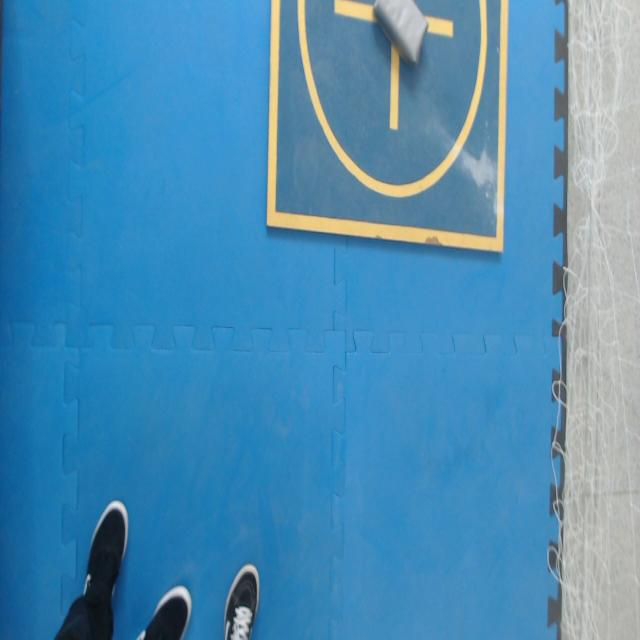lipo: (374, 0, 428, 63)
